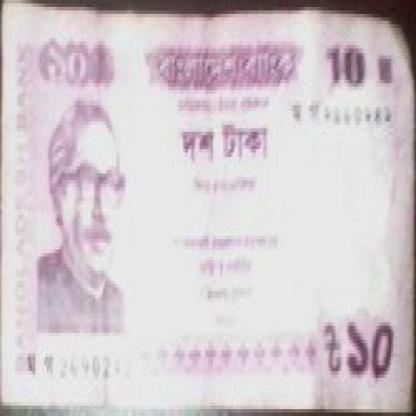Ten Taka: (338, 319, 414, 409), (328, 38, 376, 108), (45, 21, 93, 90)
